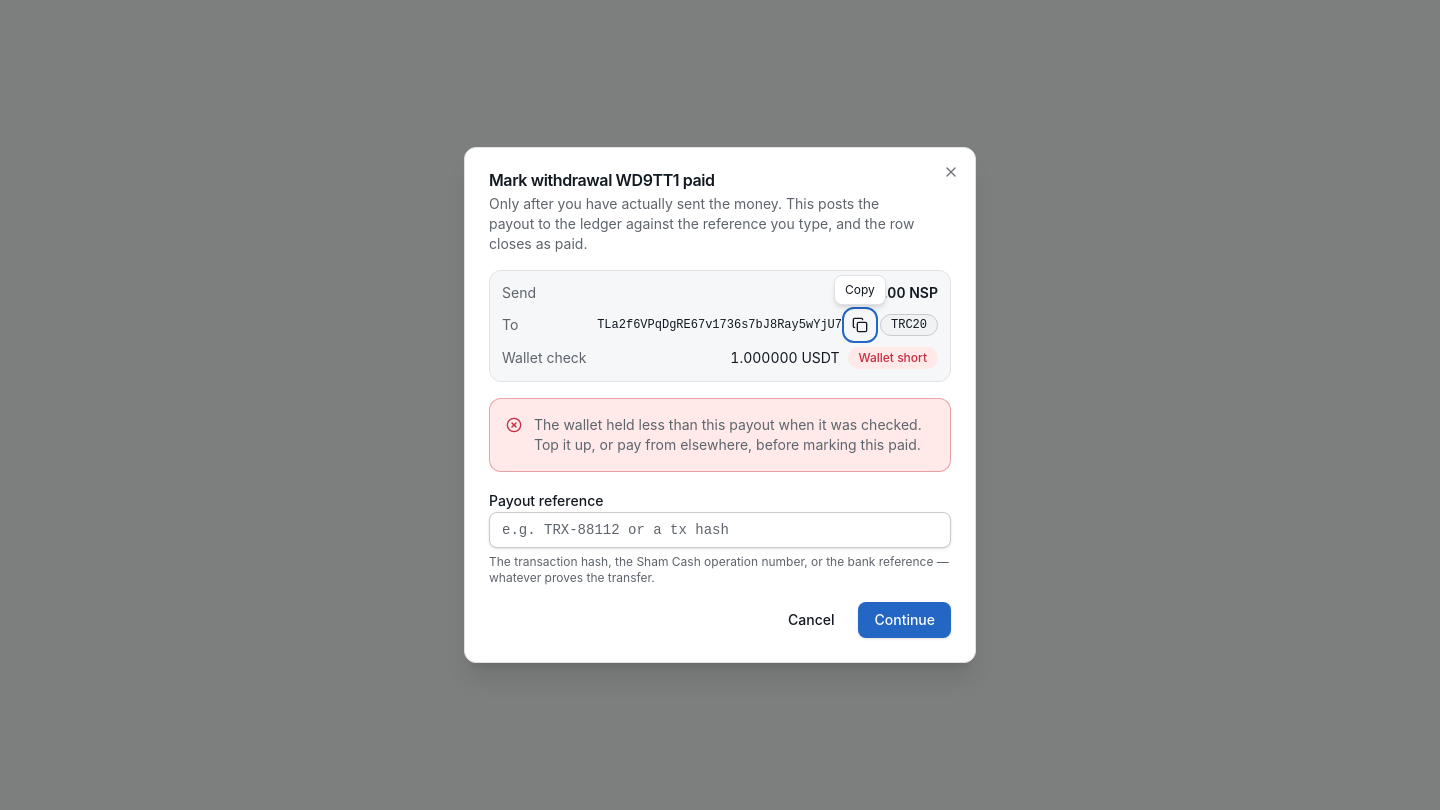
it: MarkPaidDialog › warns on both steps when the wallet was short
This screenshot has width=1440, height=810.
Expected: the text "Wallet short" is shown, [848,347,938,369]
Expected: the text "The wallet held less than this payout" is shown, [534,416,922,453]
Type "TRX-2" into the field labelled "Payout reference" at (720, 530), box [489,512,951,548]
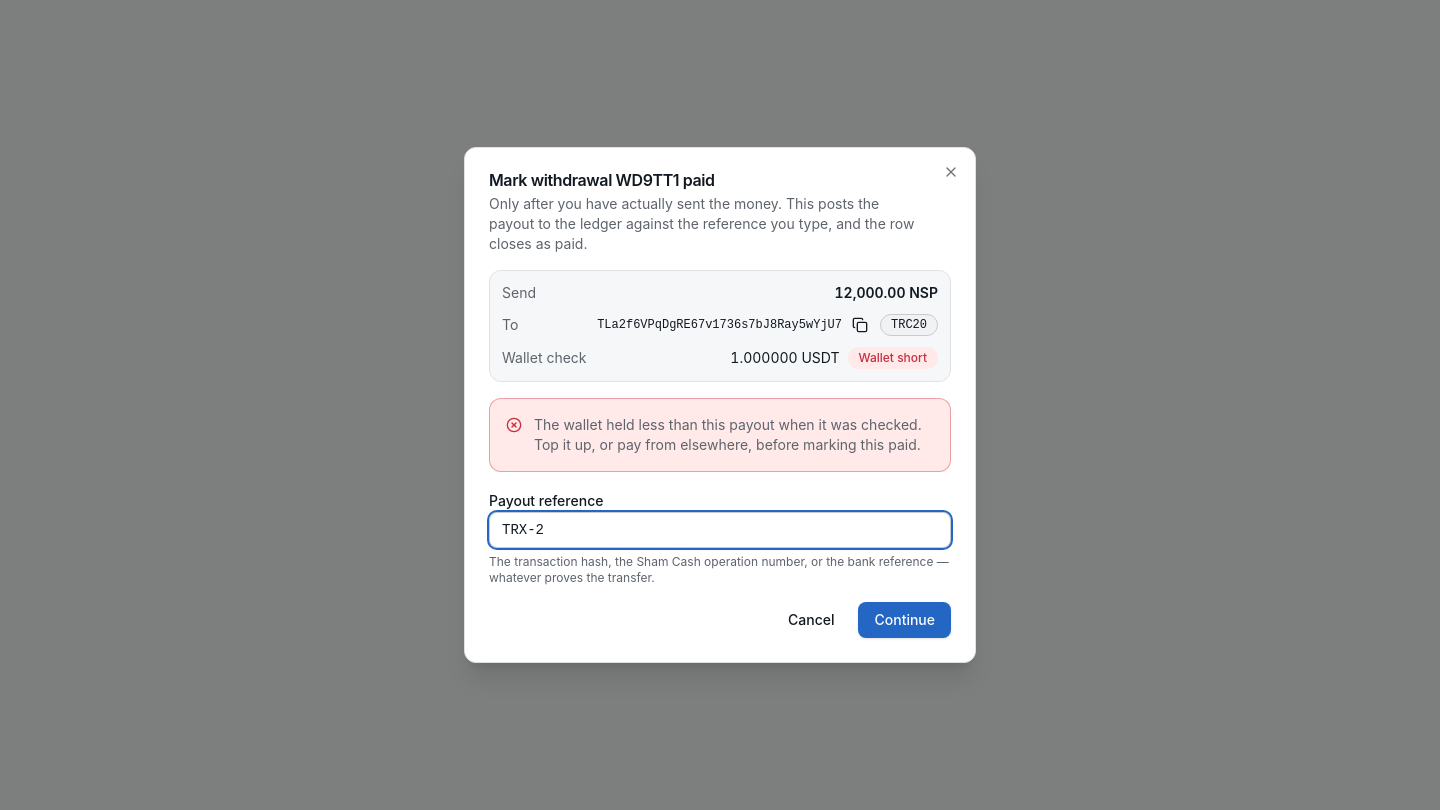
Click the button "Continue" at (905, 620), box [858,602,951,638]
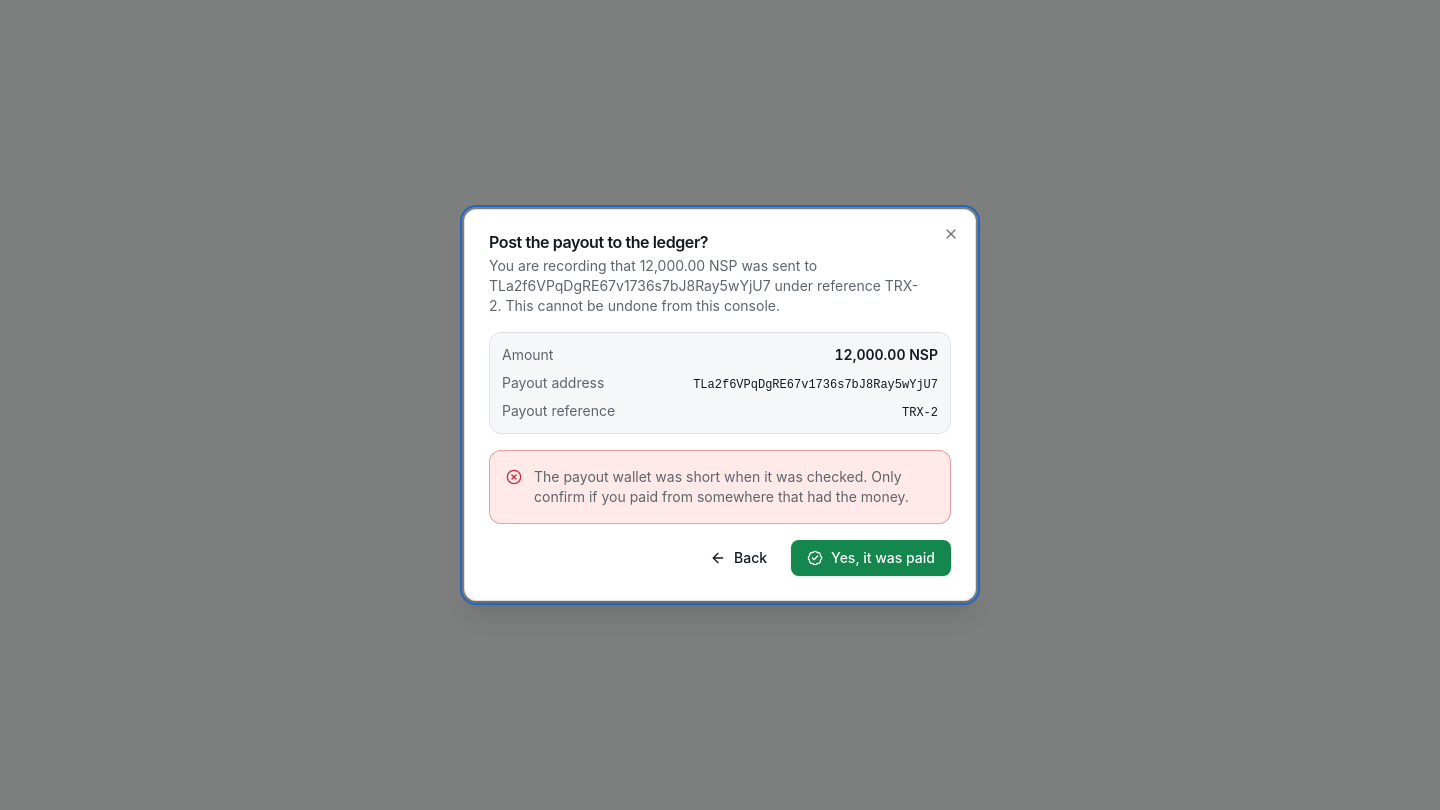
Now the text "Only confirm if you paid from somewhere that had the money" is shown, box [534,468,909,505]
